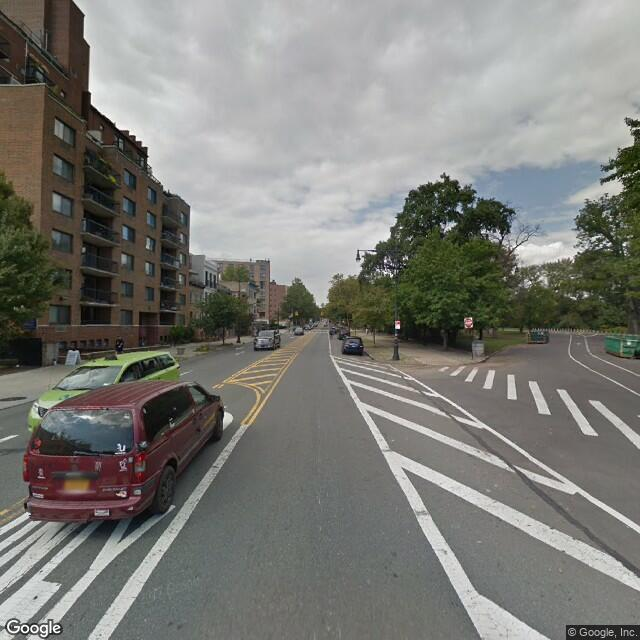litter: (51, 359, 59, 365), (13, 361, 18, 368)
